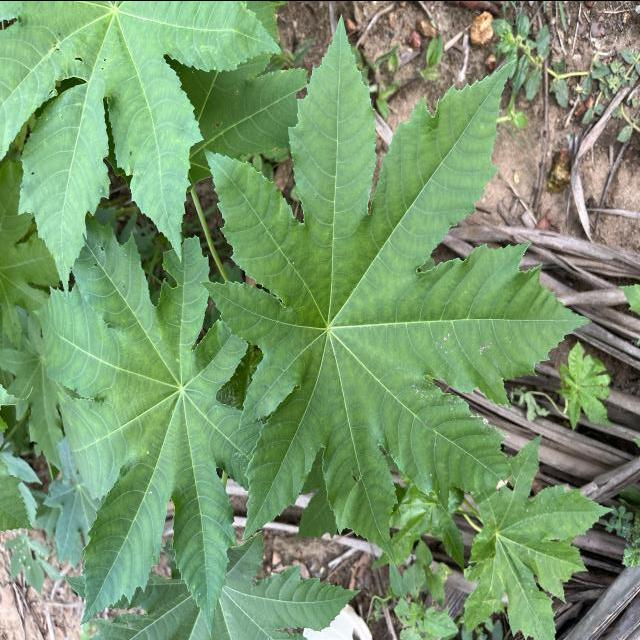Ricinus communis linn: (200, 11, 594, 570), (28, 211, 269, 639)
